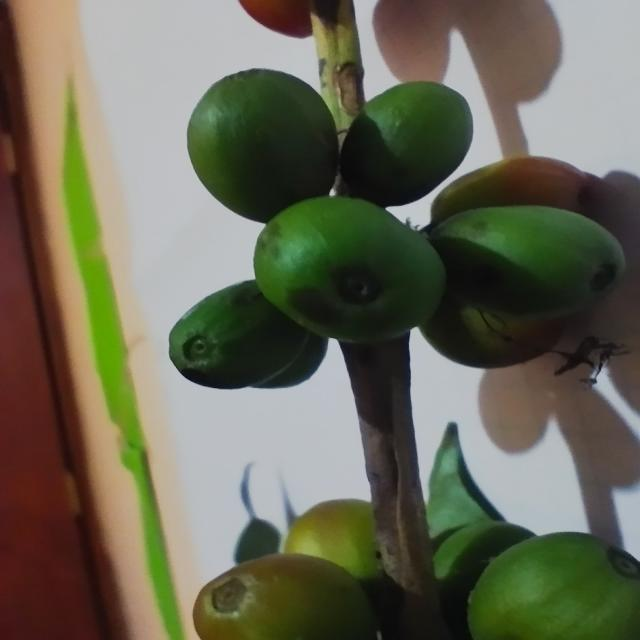Sano: (254, 196, 446, 343), (187, 69, 338, 223), (429, 206, 623, 317), (468, 532, 639, 640), (170, 280, 327, 389), (339, 81, 473, 208), (194, 554, 379, 640), (282, 499, 402, 620)
